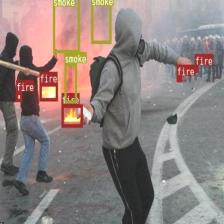fire: (61, 104, 83, 127), (39, 83, 58, 100), (16, 91, 22, 101), (176, 76, 182, 82), (194, 66, 198, 72)
smoke: (52, 0, 80, 52), (91, 0, 111, 43), (64, 63, 76, 103)
